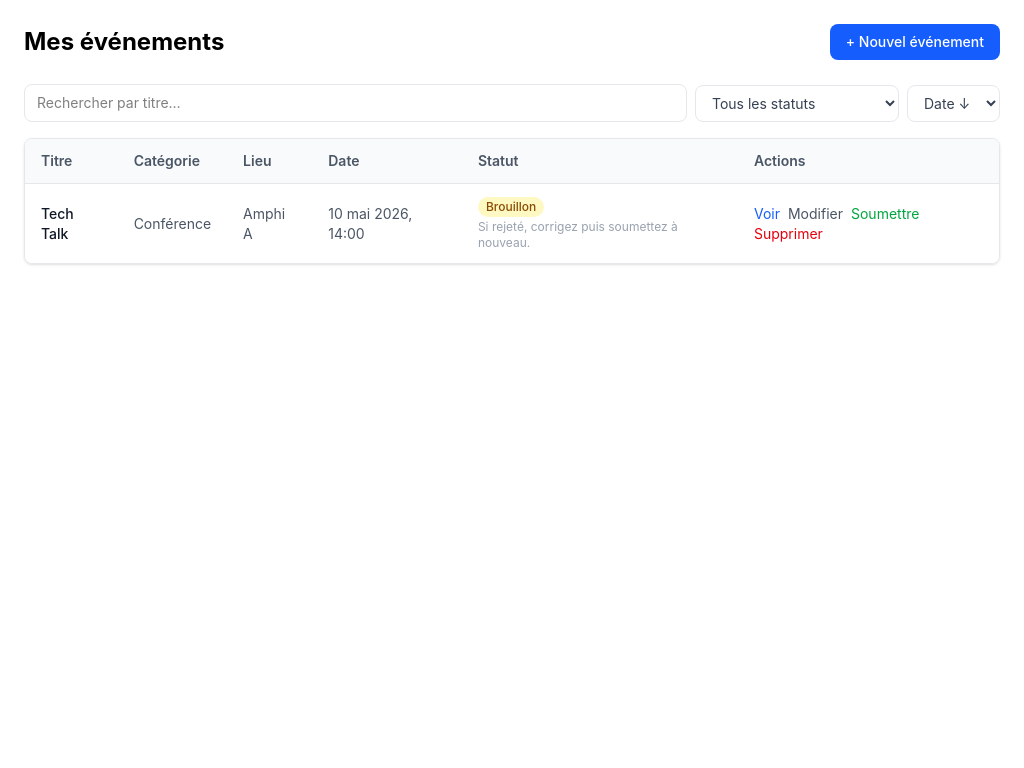
it: MyEventsPage › shows delete confirmation dialog when clicking Supprimer
This screenshot has width=1024, height=768.
Click the button "Supprimer" at (788, 234), box 754,224 -> 823,244
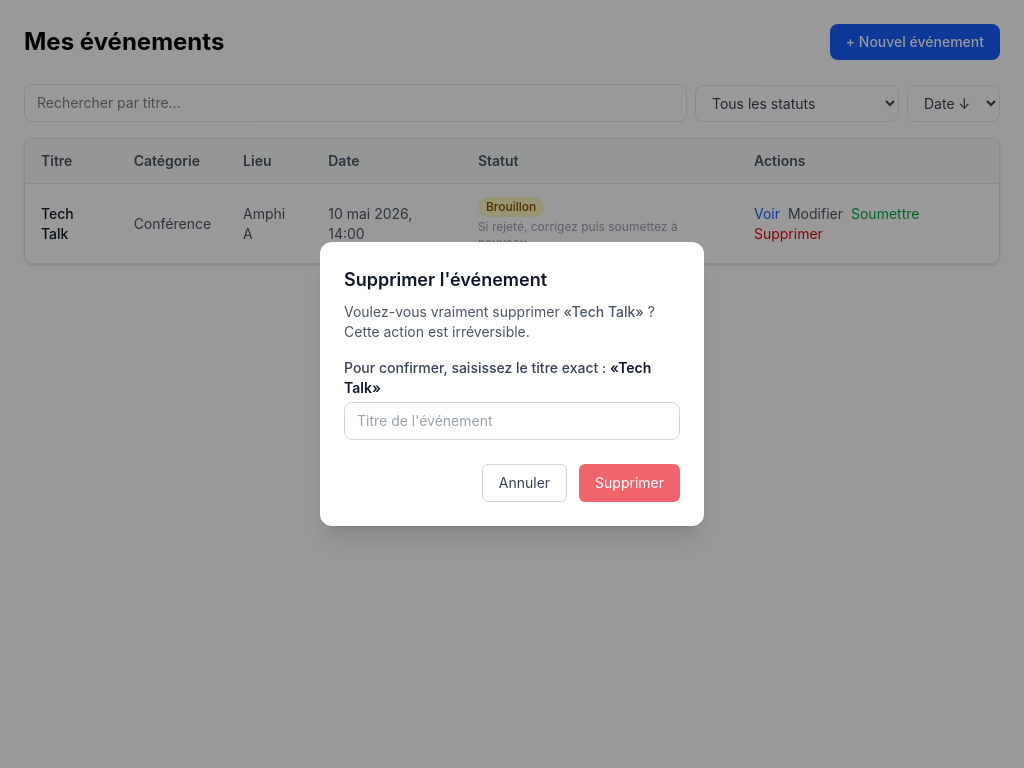
Check: the dialog is shown
Check: the heading "Supprimer l'événement" is shown, box 344,269 -> 547,290
Check: the text "«Tech Talk»" next to "? Cette action est irréversible." is shown, box 571,303 -> 635,320
